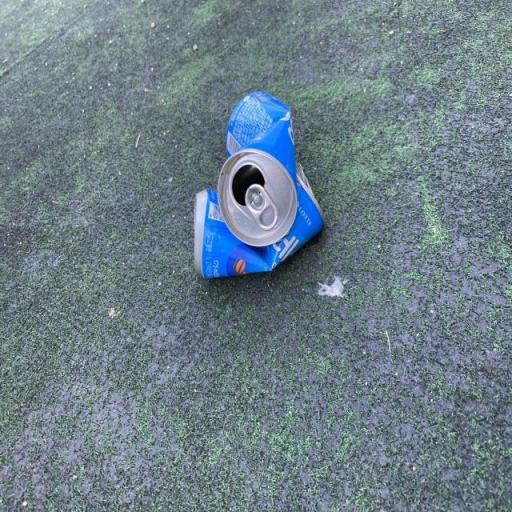metal: (218, 64, 298, 246)
